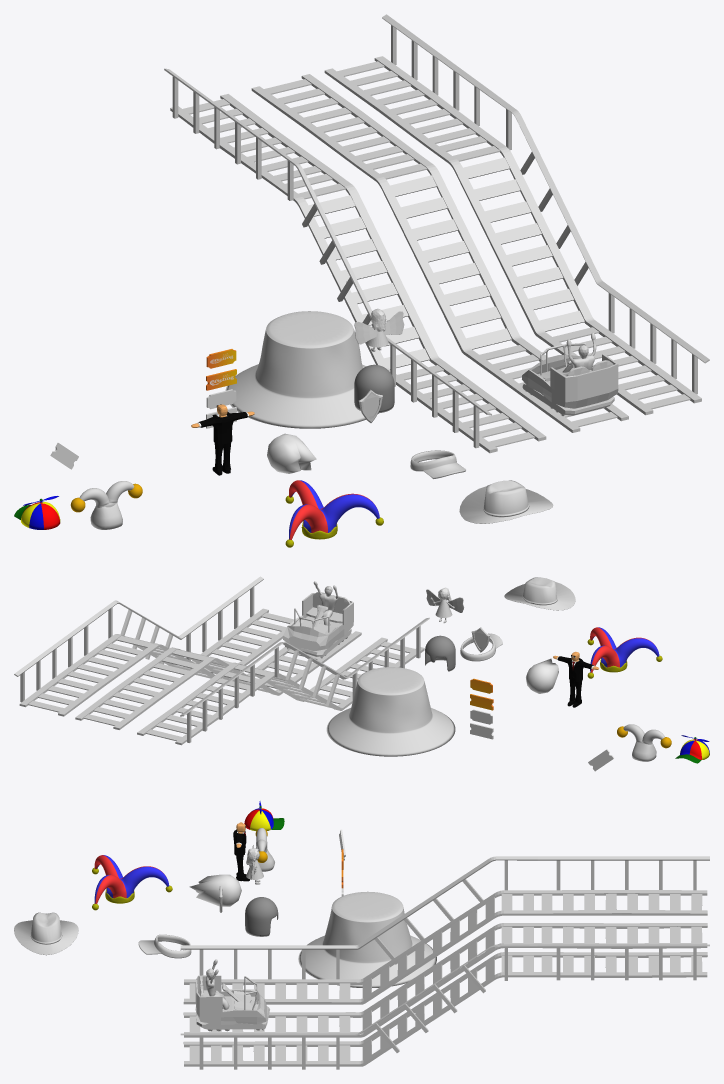
The model's file is HelicopterHat.fbx.
3 views of the same model, one above another, from view 1: azimuth 30°, elevation 25°; view 2: azimuth 150°, elevation 25°; view 3: azimuth 270°, elevation 25° (orthographic). The views are drawn at different scales.
Parts seen in each view (by area): view 1: Cylinder.005, Cube.007, Cube.021, Cube.024, Cube.018, Cube.011, Cube.023, Cube.025, Cube.022, wheels, BOTTOM, Cylinder.004 (+7 smaller); view 2: Cylinder.005, Cube.018, Cube.025, Cube.011, Cube.022, wheels, Cube.024, Cube.023, Cube.007, BOTTOM, Cylinder.004, Cube.021 (+9 smaller); view 3: Cylinder.005, Cube.024, Cube.025, Cube.007, Cube.011, Cube.018, Cube.023, Cube.021, Cube.022, wheels, Cube.020, Cylinder.004 (+7 smaller).
Boxes of the visible parts, x1=… form: Cylinder.005: x1=225, y1=311, x2=378, y2=428; Cube.007: x1=429, y1=91, x2=603, y2=339; Cube.021: x1=356, y1=150, x2=523, y2=357; Cube.024: x1=269, y1=145, x2=441, y2=371; Cube.018: x1=324, y1=14, x2=491, y2=148; Cube.011: x1=540, y1=282, x2=709, y2=415; Cube.023: x1=386, y1=337, x2=546, y2=453; Cube.025: x1=164, y1=68, x2=332, y2=186; Cube.022: x1=251, y1=74, x2=413, y2=166; wheels: x1=522, y1=343, x2=618, y2=416; BOTTOM: x1=285, y1=480, x2=383, y2=547; Cylinder.004: x1=459, y1=480, x2=553, y2=523; Cylinder.005: x1=326, y1=667, x2=455, y2=756; Cube.018: x1=14, y1=615, x2=143, y2=716; Cube.025: x1=137, y1=656, x2=263, y2=745; Cube.011: x1=180, y1=576, x2=294, y2=673; Cube.022: x1=75, y1=659, x2=198, y2=729; wheels: x1=283, y1=592, x2=353, y2=658; Cube.024: x1=217, y1=641, x2=349, y2=710; Cube.023: x1=302, y1=617, x2=429, y2=707; Cube.007: x1=95, y1=600, x2=223, y2=678; BOTTOM: x1=587, y1=627, x2=662, y2=678; Cylinder.004: x1=504, y1=577, x2=575, y2=610; Cube.021: x1=155, y1=647, x2=283, y2=695; Cylinder.005: x1=298, y1=891, x2=436, y2=987; Cube.024: x1=353, y1=856, x2=537, y2=1004; Cube.025: x1=536, y1=856, x2=709, y2=915; Cube.007: x1=353, y1=944, x2=537, y2=1066; Cube.011: x1=180, y1=1033, x2=355, y2=1069; Cube.018: x1=536, y1=944, x2=709, y2=980; Cube.023: x1=180, y1=945, x2=355, y2=1004; Cube.021: x1=353, y1=923, x2=536, y2=1037; Cube.022: x1=536, y1=923, x2=707, y2=948; wheels: x1=195, y1=975, x2=269, y2=1031; Cube.020: x1=183, y1=1012, x2=355, y2=1037; Cylinder.004: x1=14, y1=912, x2=78, y2=955.
Size of the model in its own units: 3600 by 945 by 4147.
